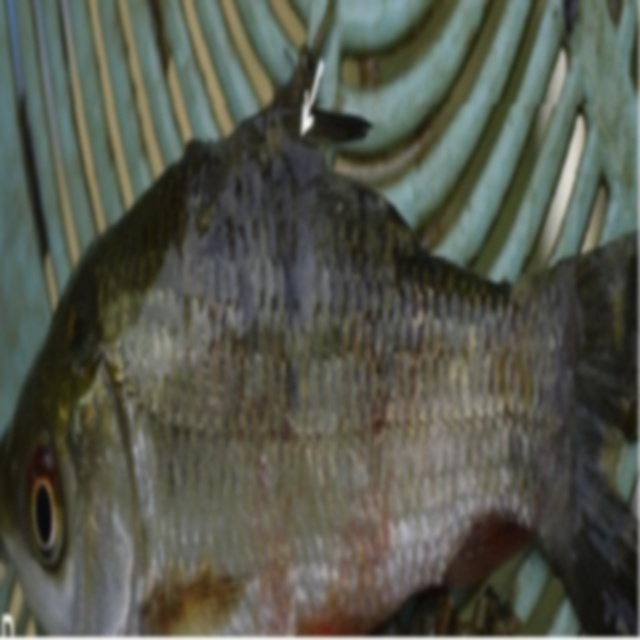EUS Disease: (8, 66, 640, 640), (188, 84, 424, 640)
